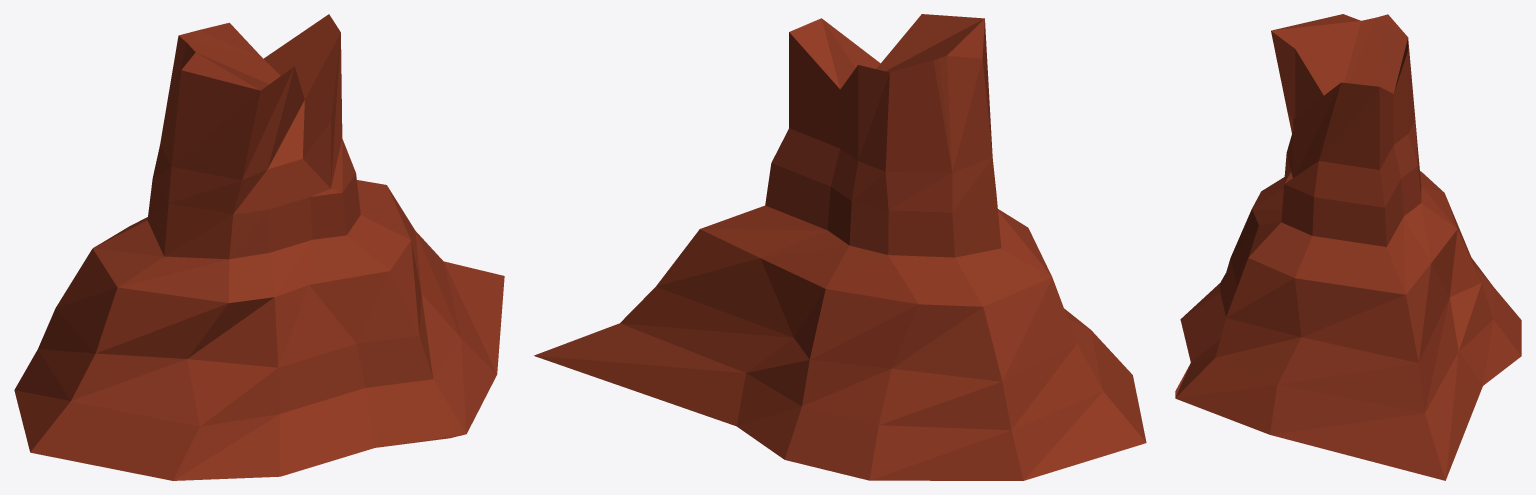
Rendered from duża góra2.FBX.
3 renders of one model, left to right at view 1: azimuth 30°, elevation 25°; view 2: azimuth 150°, elevation 25°; view 3: azimuth 270°, elevation 25°, orthographic. The views are drawn at different scales.
Parts seen in each view (by area): view 1: Line004; view 2: Line004; view 3: Line004.
Part boxes in pixels (x1,y1,x2,y2): Line004: (14,14,504,480); Line004: (534,14,1146,480); Line004: (1175,14,1521,480).
Size of the model in its own units: 778 by 487 by 491.
